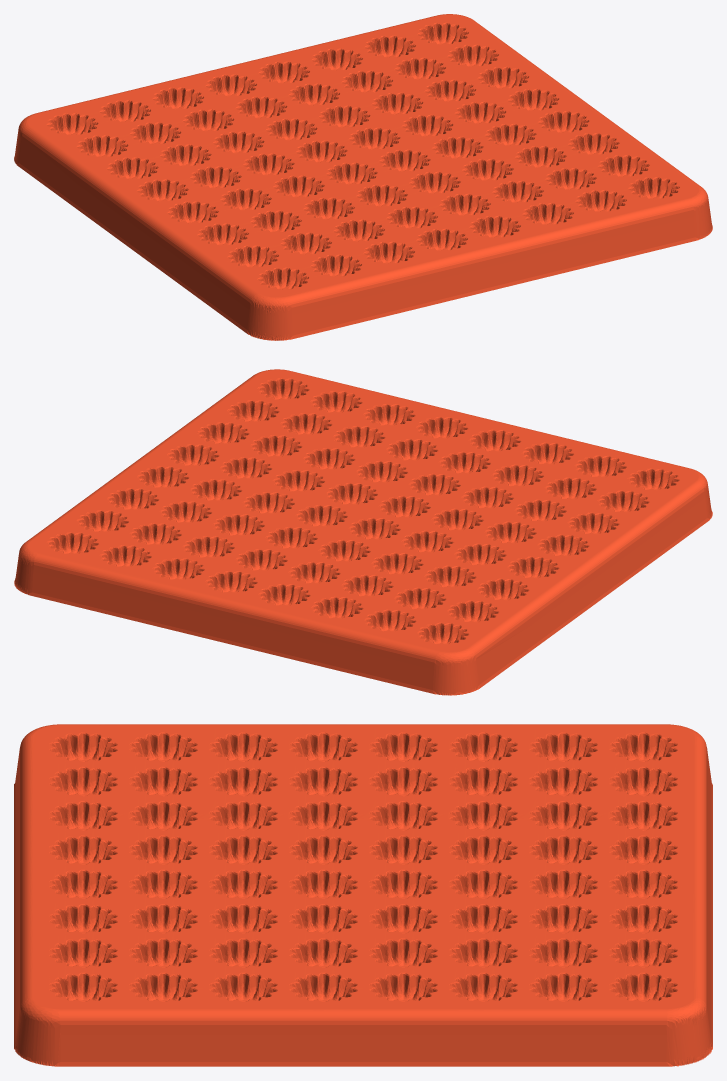
File: mold.glb
3 renders of one model, top to bottom at view 1: azimuth 30°, elevation 25°; view 2: azimuth 150°, elevation 25°; view 3: azimuth 270°, elevation 25°, orthographic. The views are drawn at different scales.
Parts seen in each view (by area): view 1: geometry_0; view 2: geometry_0; view 3: geometry_0.
Part boxes in pixels (bbox=[...]): geometry_0: bbox=[14, 14, 712, 340]; geometry_0: bbox=[14, 369, 712, 695]; geometry_0: bbox=[14, 724, 712, 1066].
Size of the model in its own units: 0.1355 by 0.0105 by 0.1337.
